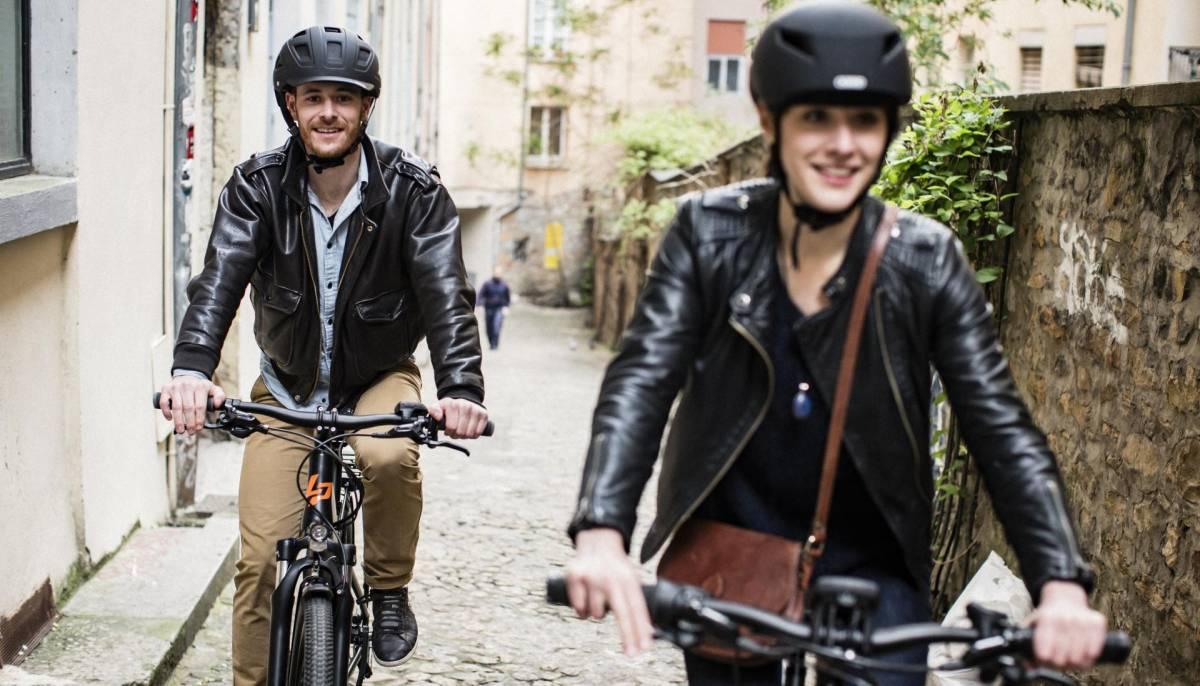helmet: (750, 5, 920, 108), (271, 21, 382, 98)
